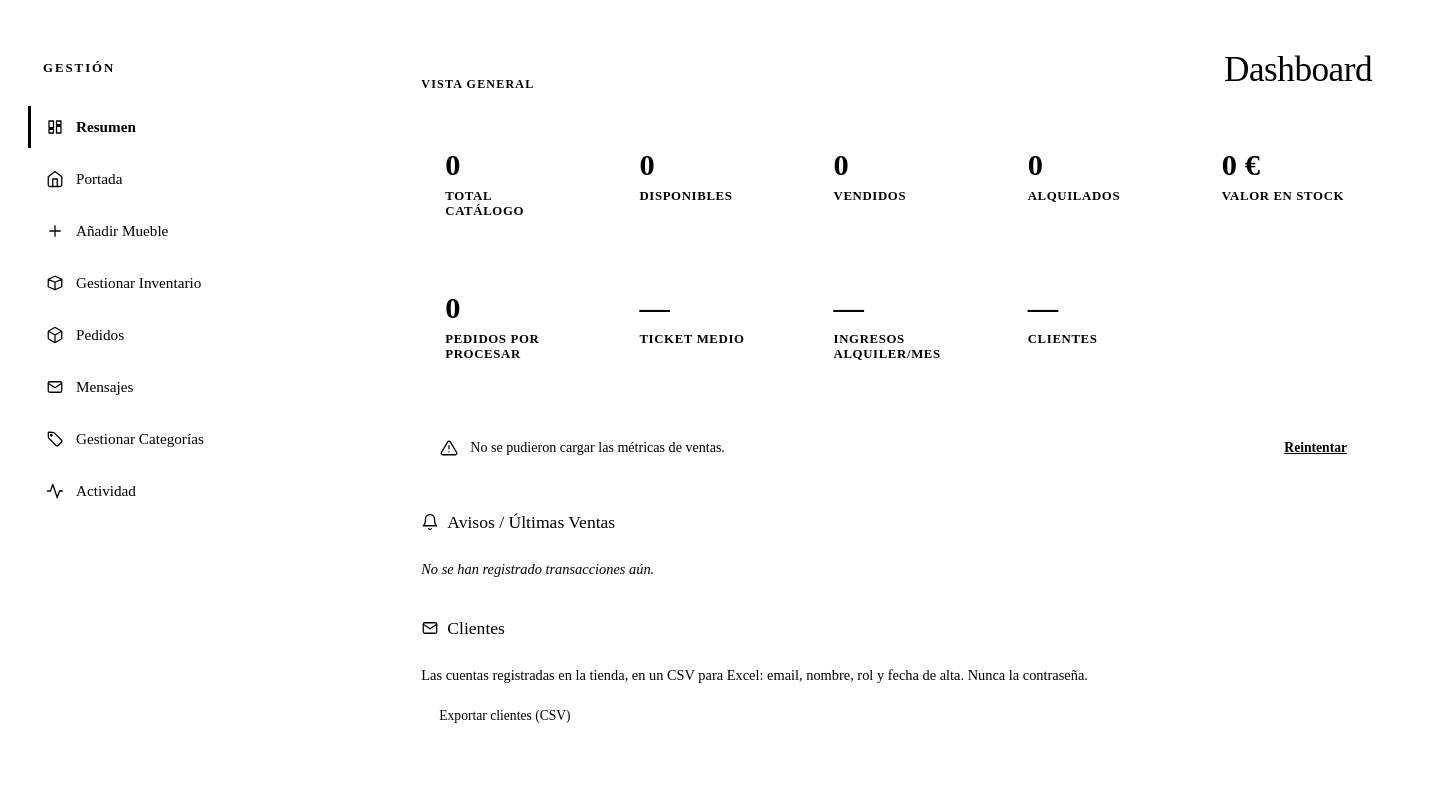
Test case: Categorías — código › cada tarjeta enseña su código, o "Sin código"
The width and height of the screenshot is (1440, 810).
Click the button "Gestionar Categorías".
click(185, 439)  # box [28, 418, 341, 460]
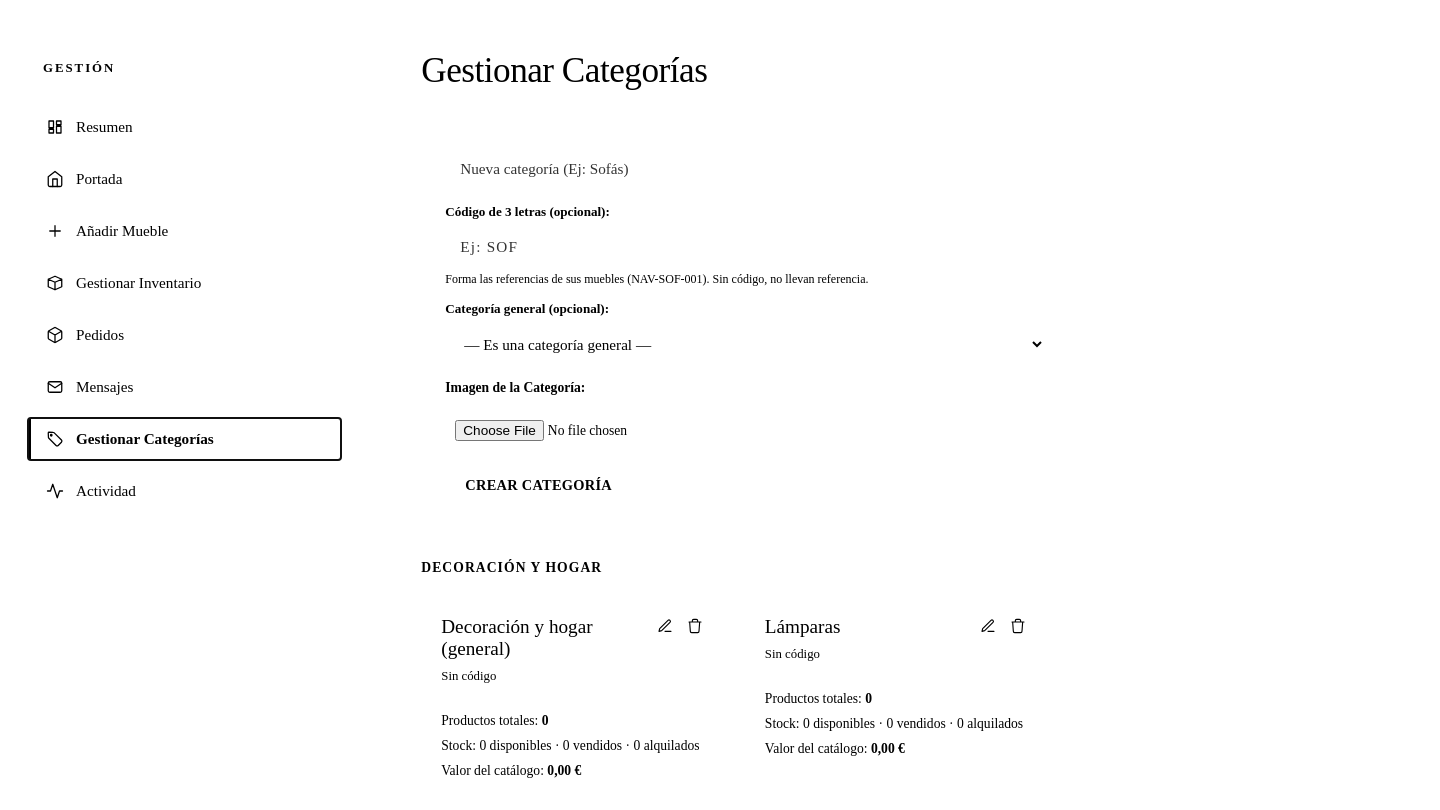
expect the text "Sin código" below "Lámparas" is shown: met, box [765, 647, 820, 661]
